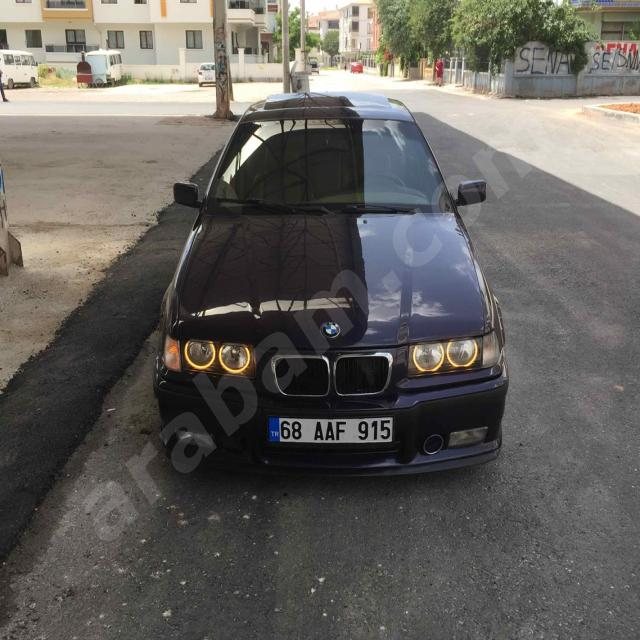license_plate: (267, 416, 394, 443)
